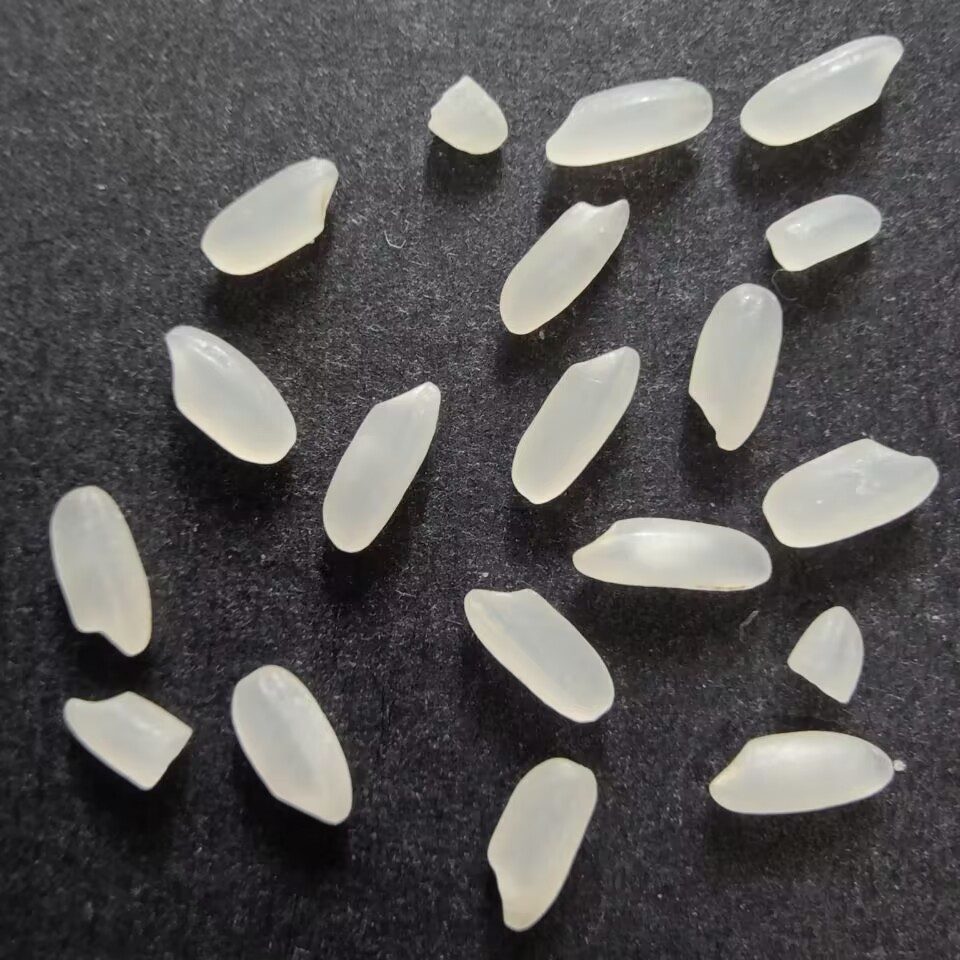broken: (58, 688, 195, 793), (762, 191, 887, 274), (785, 601, 869, 705), (423, 73, 510, 154)
rice: (319, 377, 446, 554), (459, 586, 617, 724), (486, 752, 603, 937), (510, 344, 642, 506), (761, 434, 942, 551), (226, 664, 355, 828), (160, 324, 306, 466), (494, 196, 632, 340), (736, 33, 906, 147), (49, 486, 154, 662), (199, 154, 344, 280), (700, 727, 900, 818), (542, 74, 716, 174), (686, 281, 786, 453), (565, 514, 776, 595)
